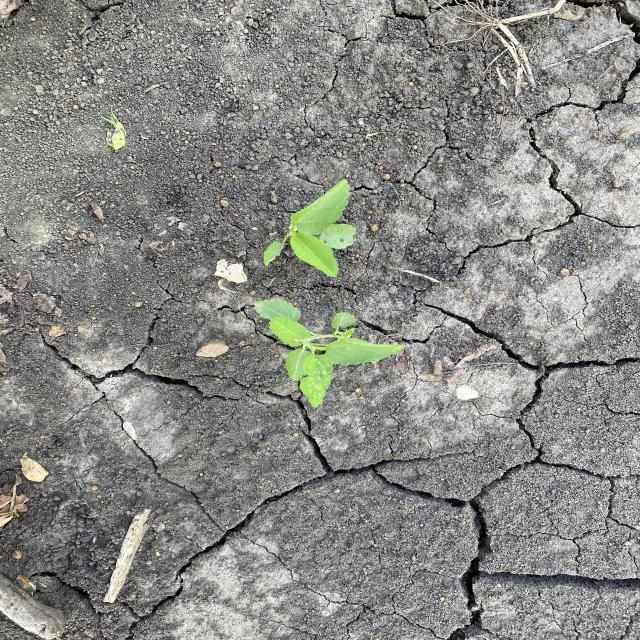PricklySida: (250, 297, 409, 409), (261, 178, 360, 278)
